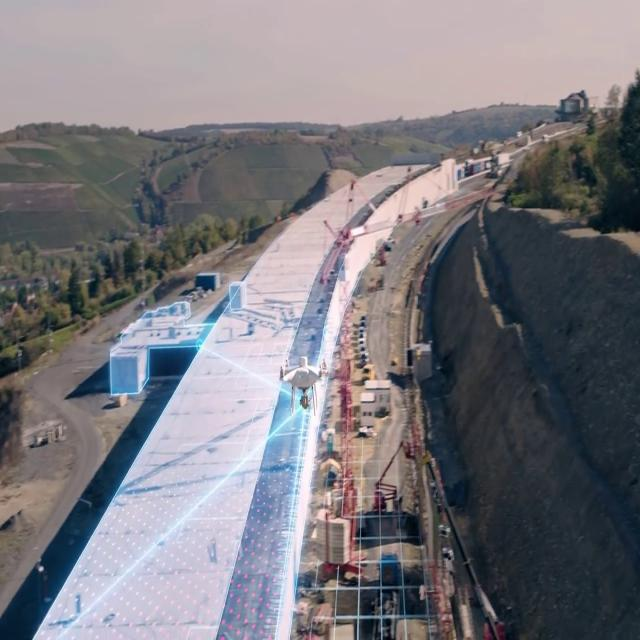drone: (276, 353, 334, 416)
